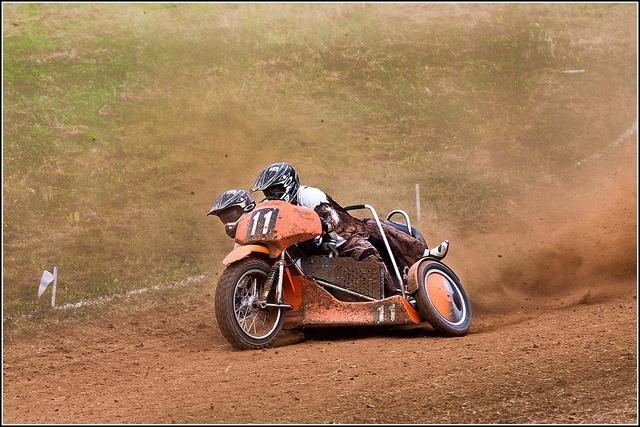motorcycle: (214, 200, 476, 352)
